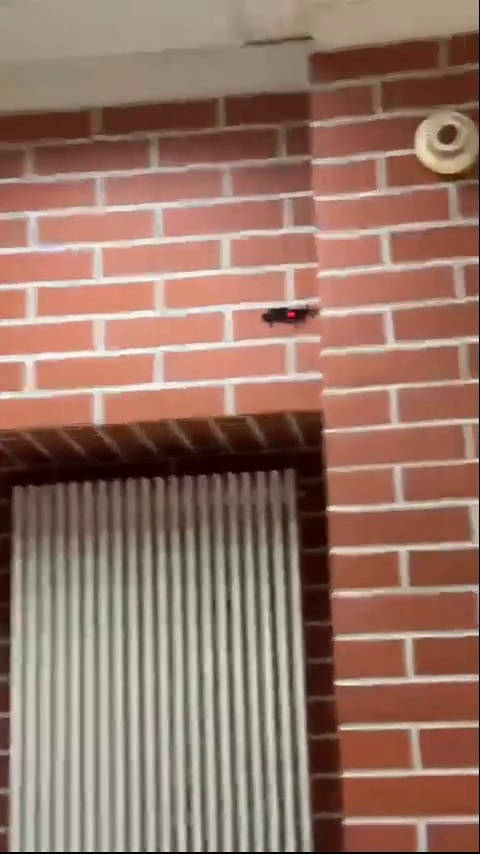drone: (261, 301, 319, 330)
